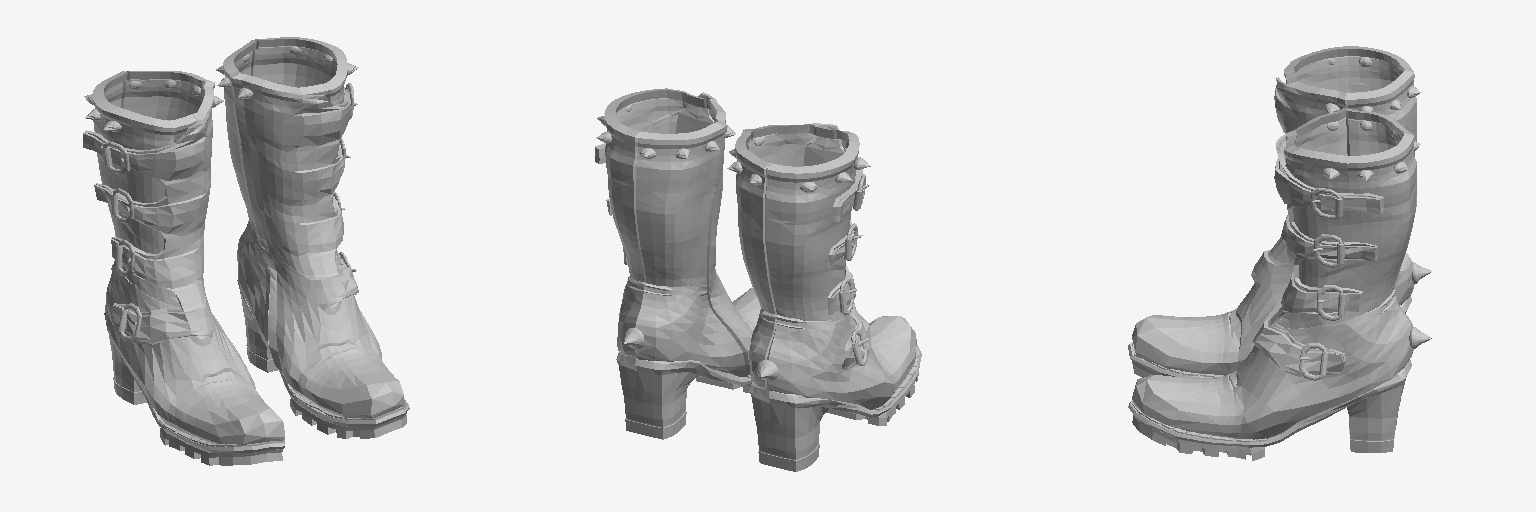
Rendered from Boots.obj.
3 renders of one model, left to right at view 1: azimuth 30°, elevation 25°; view 2: azimuth 150°, elevation 25°; view 3: azimuth 270°, elevation 25°, orthographic.
Visible parts, largest first — view 1: LBoot, RBoot; view 2: RBoot, LBoot; view 3: LBoot, RBoot.
Part boxes in pixels (x1,y1,x2,y2): LBoot: (216, 37, 409, 438); RBoot: (83, 71, 284, 465); RBoot: (727, 123, 921, 471); LBoot: (595, 88, 760, 439); LBoot: (1128, 108, 1431, 460); RBoot: (1128, 46, 1431, 377).
Size of the model in its own units: 29.4 by 33.71 by 30.06.